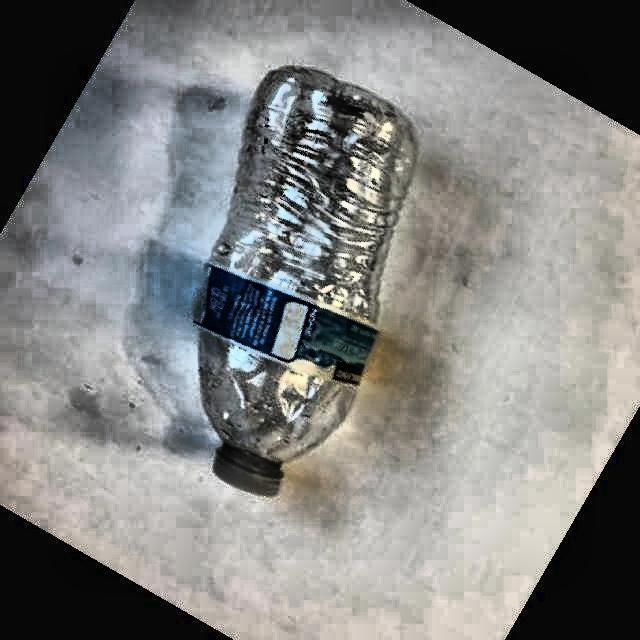plastic: (195, 66, 416, 495)
